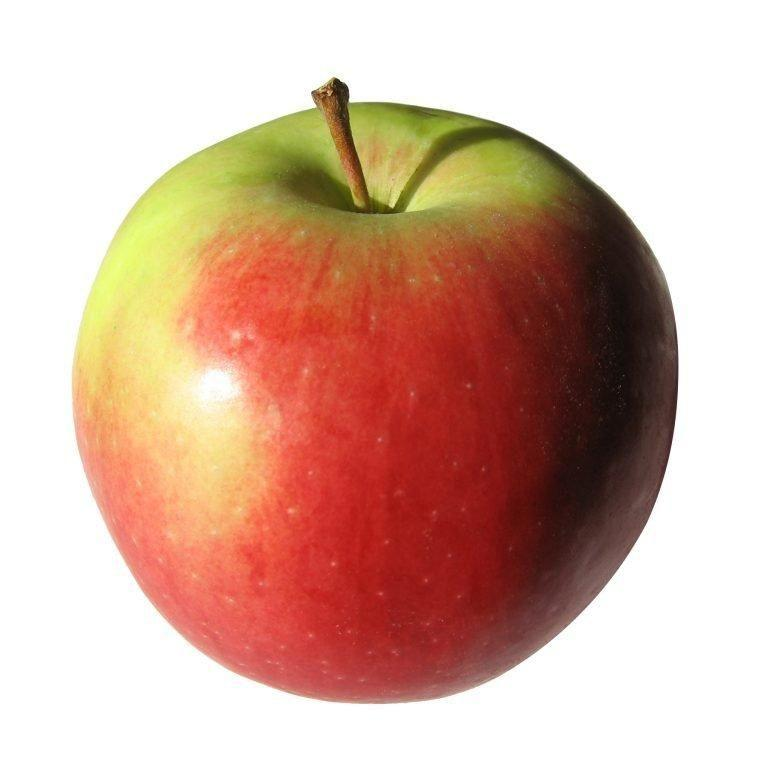Apple: (73, 102, 675, 702)
